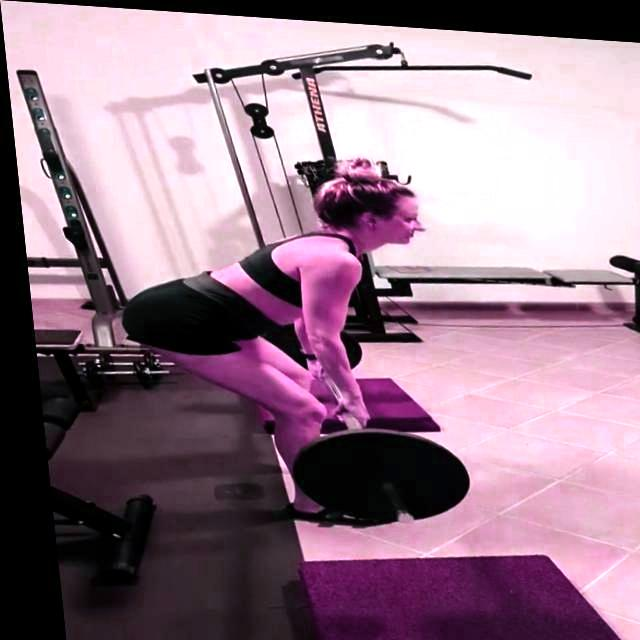barbell: (277, 417, 467, 530)
